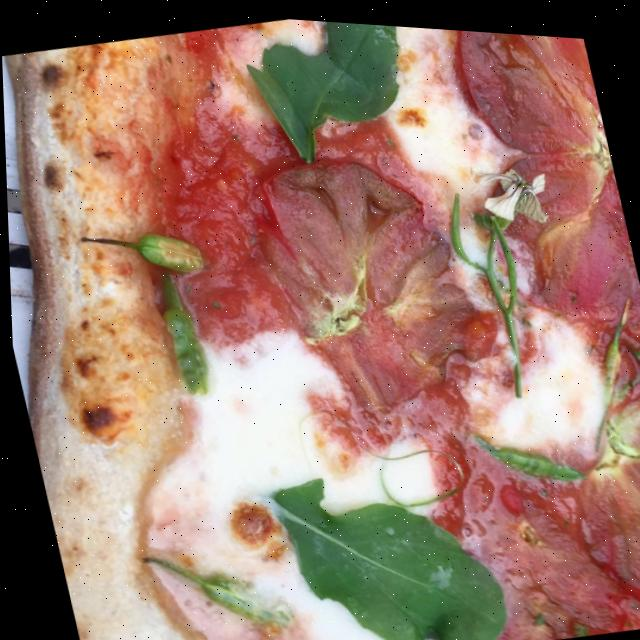basil: (252, 434, 517, 640), (237, 12, 424, 173), (71, 206, 211, 296), (472, 409, 584, 493), (148, 265, 212, 404), (583, 308, 639, 398), (630, 336, 640, 397)
pizza: (0, 0, 640, 640)
tomatoes: (254, 140, 482, 427), (389, 414, 620, 640), (466, 24, 640, 309), (551, 376, 640, 594)
